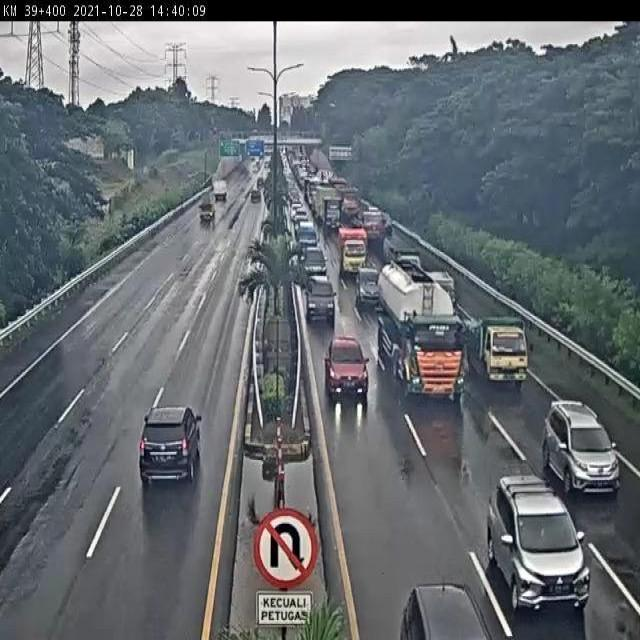car: (488, 470, 591, 610), (541, 402, 620, 490), (138, 402, 202, 482), (325, 334, 369, 394), (305, 273, 336, 316), (351, 265, 380, 308), (300, 241, 329, 275)
truck-m-: (460, 312, 529, 384), (336, 223, 369, 276)
truck-xl-: (374, 253, 460, 388)
